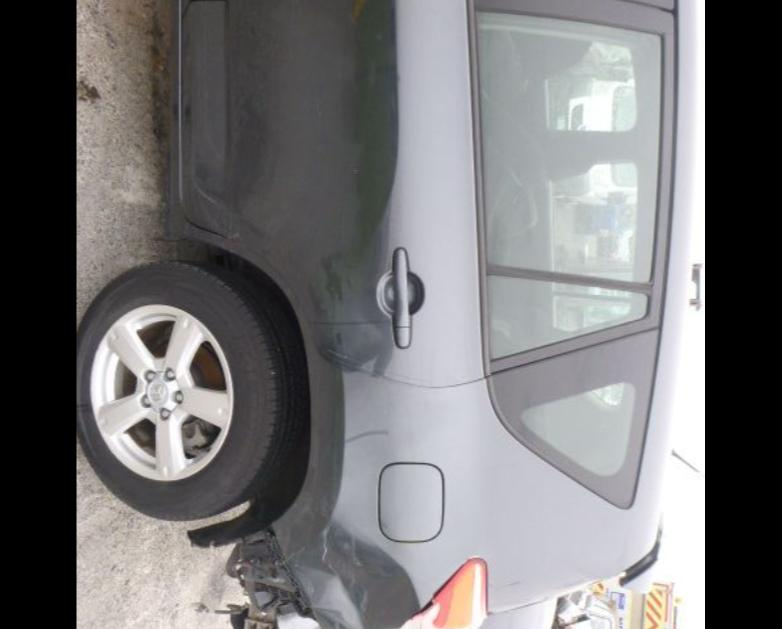Broken part: (216, 524, 318, 629), (397, 558, 488, 629)
Dent: (274, 512, 420, 629), (192, 102, 262, 214)
Paint chip: (216, 218, 240, 244)
Scratch: (490, 580, 526, 588)
